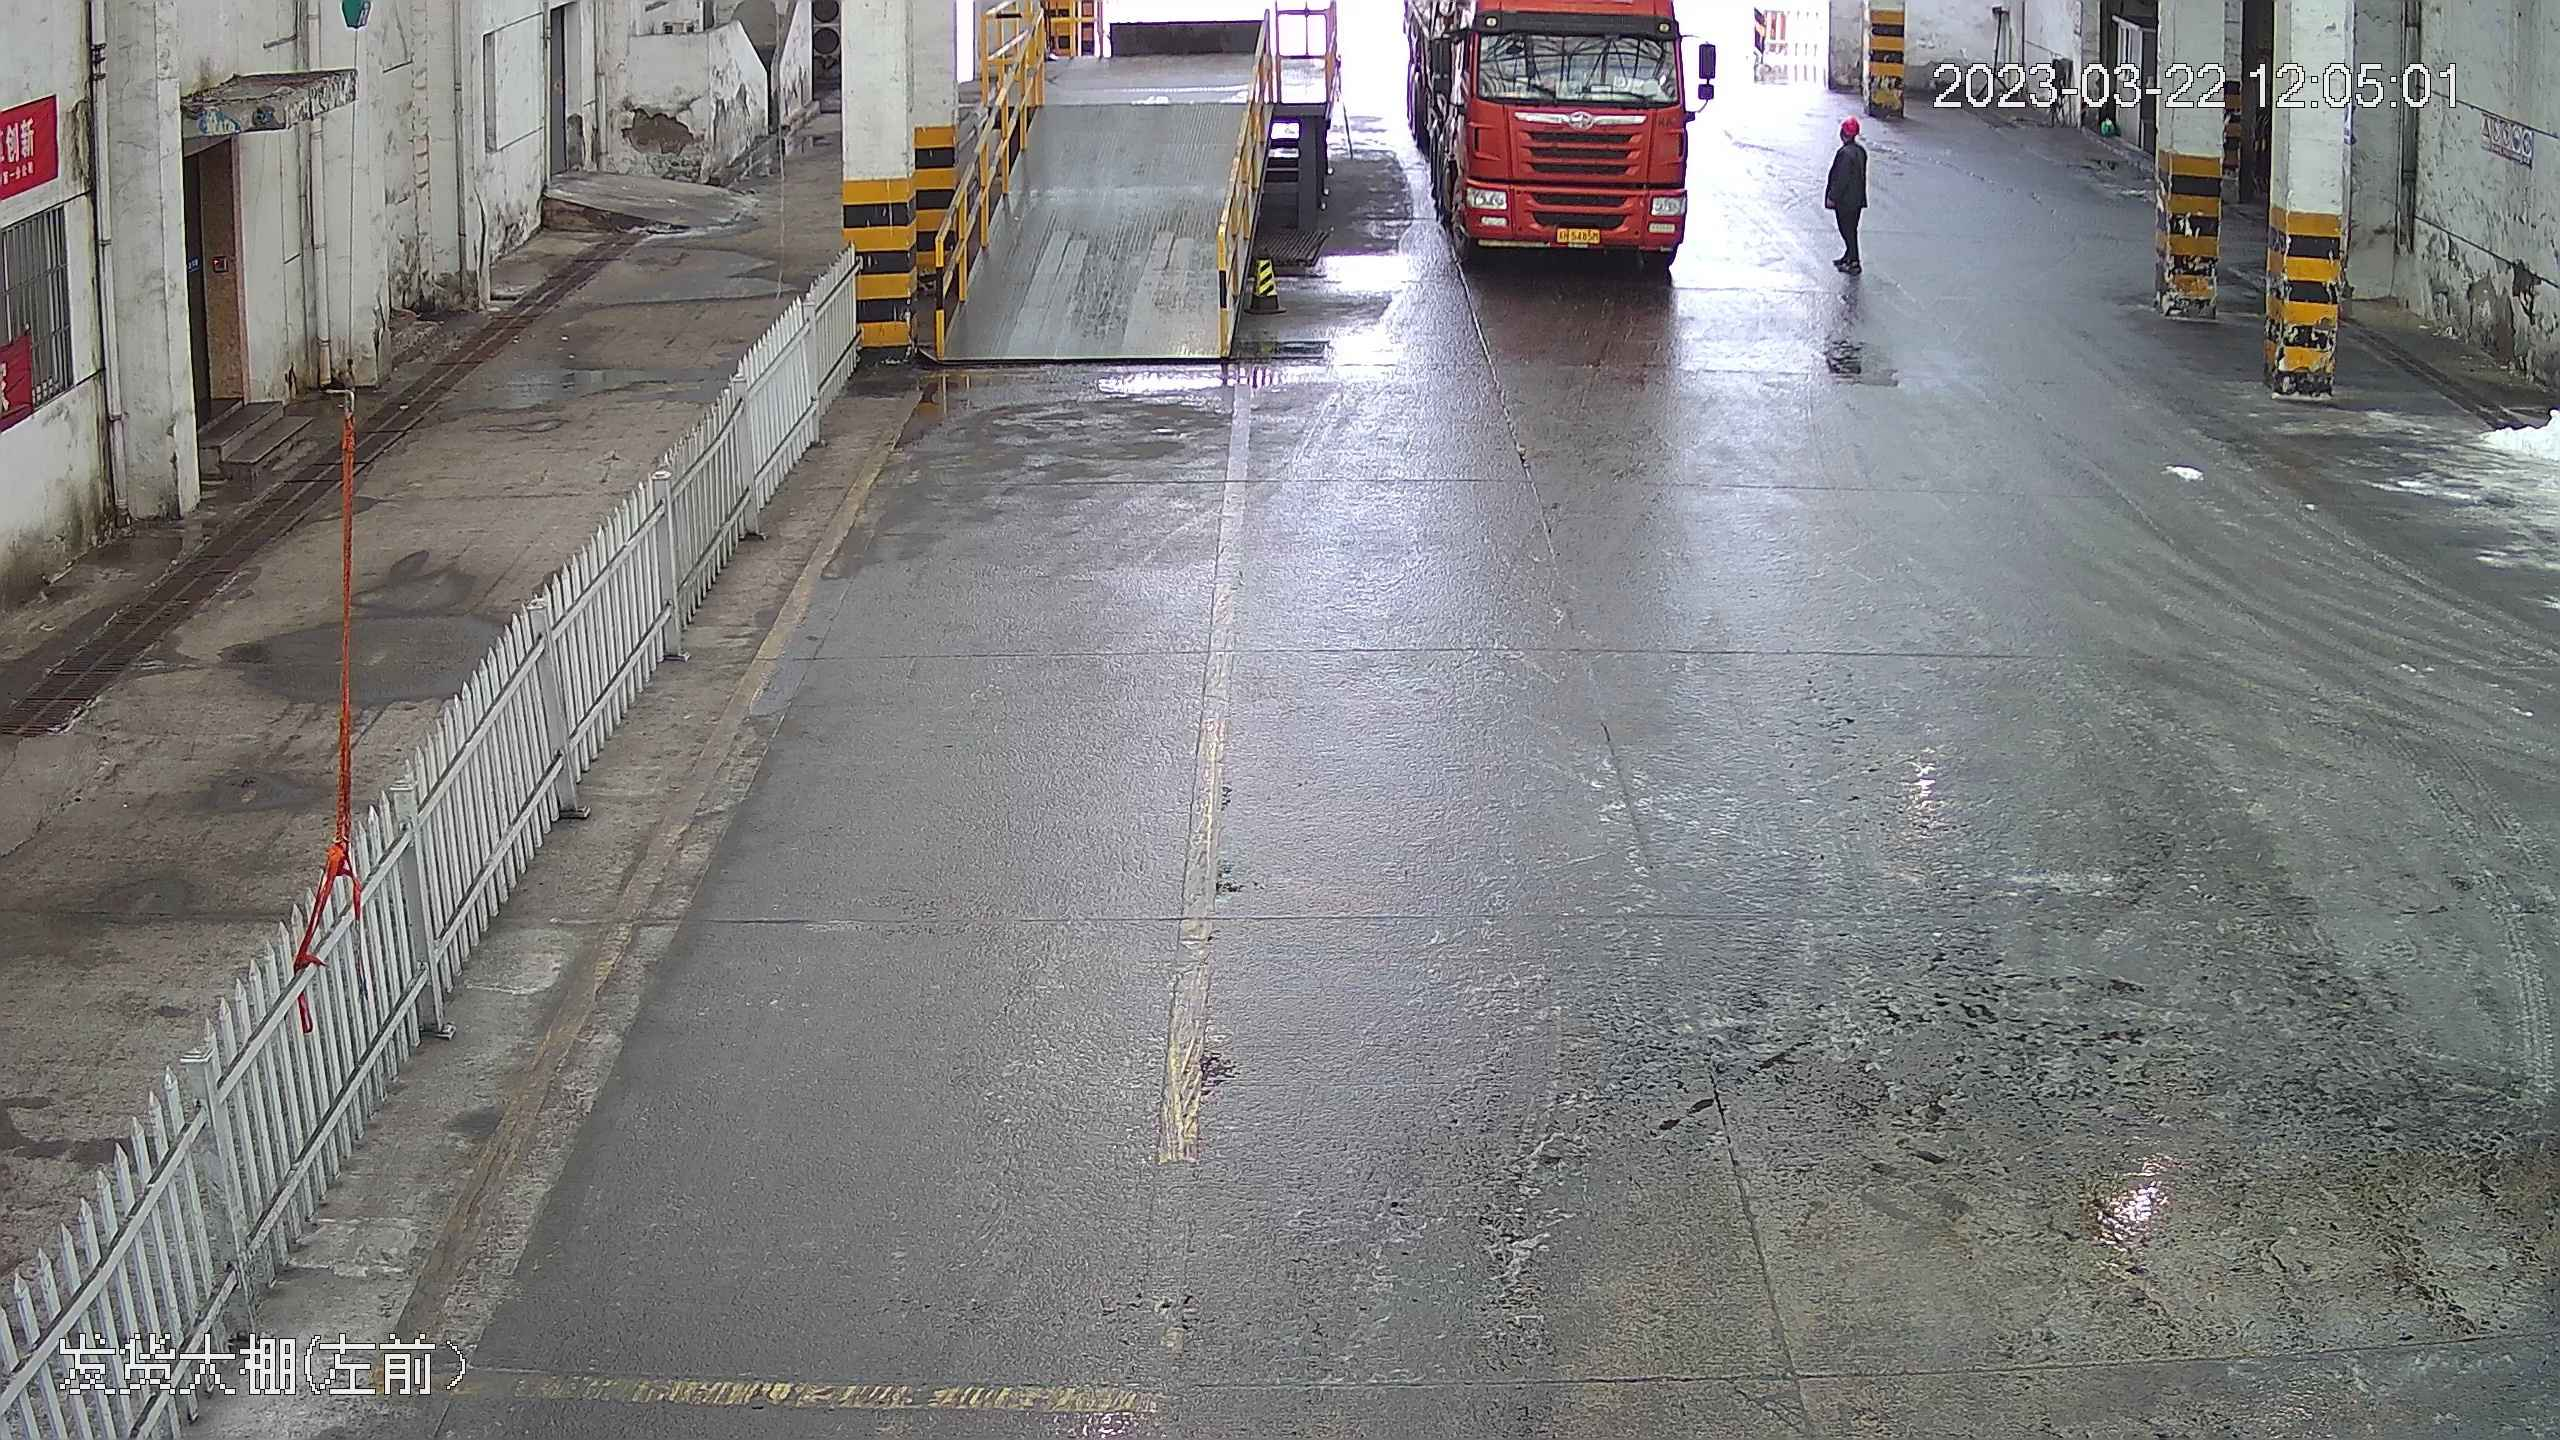head: (1828, 112, 1871, 166)
helmet: (1836, 113, 1862, 134)
people: (1823, 110, 1870, 272)
truck: (1412, 1, 1704, 266)
